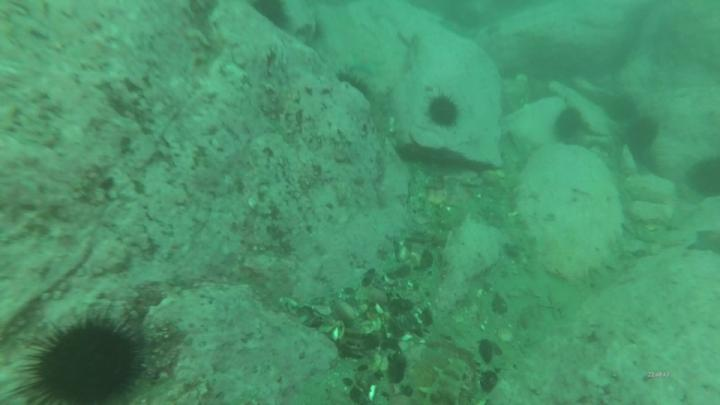echinus: (12, 311, 153, 405), (247, 1, 294, 38), (423, 91, 464, 131), (686, 155, 720, 200), (623, 116, 663, 154), (334, 69, 375, 104), (554, 105, 585, 143), (606, 91, 639, 126)
holothurian: (416, 355, 480, 405)
starfish: (684, 228, 720, 258)
